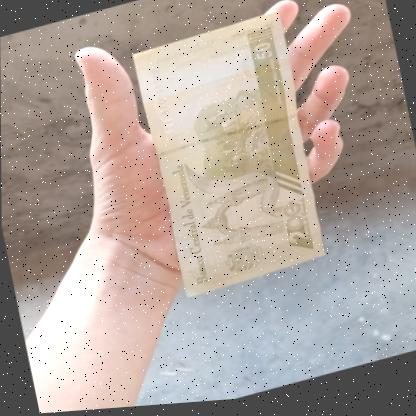fifty-back-vef: (131, 11, 329, 304)
